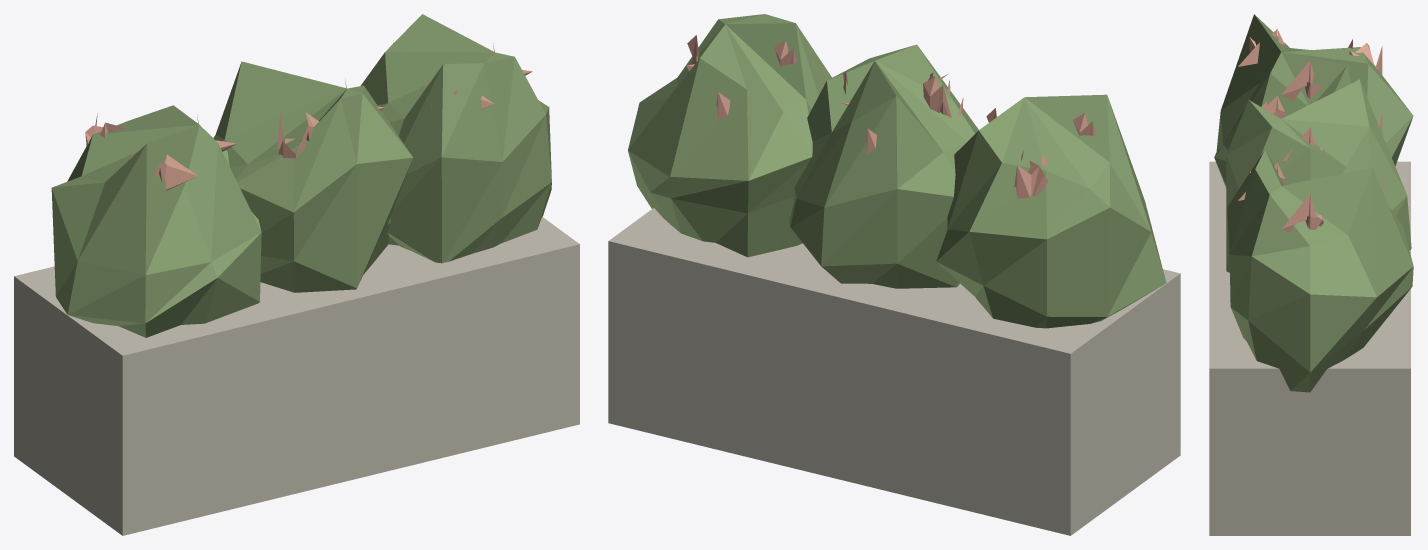
3 views of the same model, side by side, from view 1: azimuth 30°, elevation 25°; view 2: azimuth 150°, elevation 25°; view 3: azimuth 270°, elevation 25° (orthographic). The views are drawn at different scales.
Bounding box in the file's own units: 1.87 × 1.3 × 0.7091.
